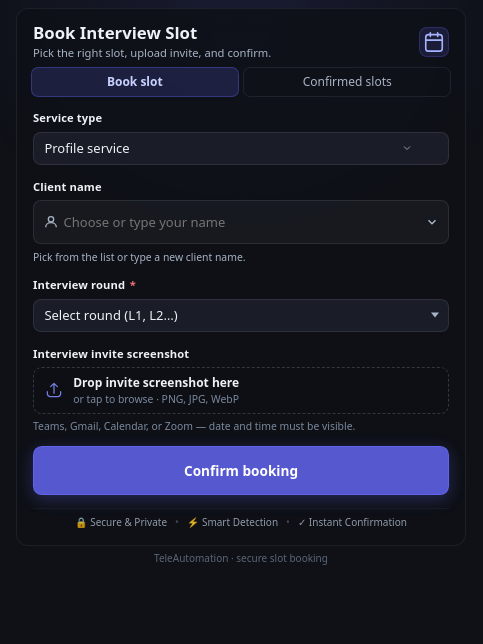
Round-wise payment — non-roster candidate gets payment card › waiver/no-payment path still works (re-service eligible)
The image size is (483, 644).
Click the button "Profile service": [87, 148] box [33, 132, 449, 165]
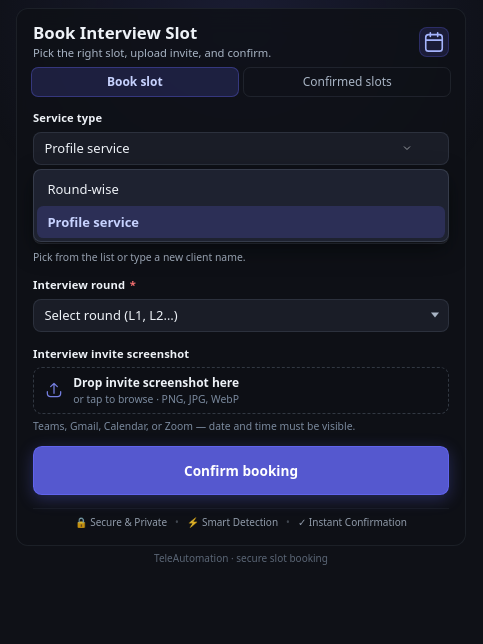
Click the list item "Round-wise": [83, 189] box [47, 180, 119, 198]
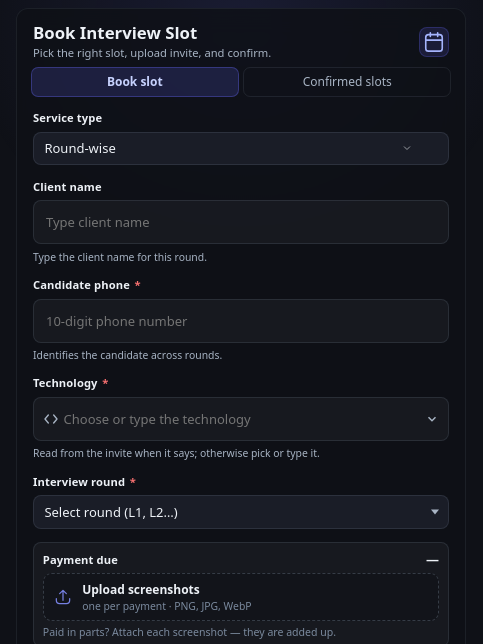
In the field with placeholder "Type client name": [241, 222] box [33, 200, 449, 244], type "Waived Candidate"
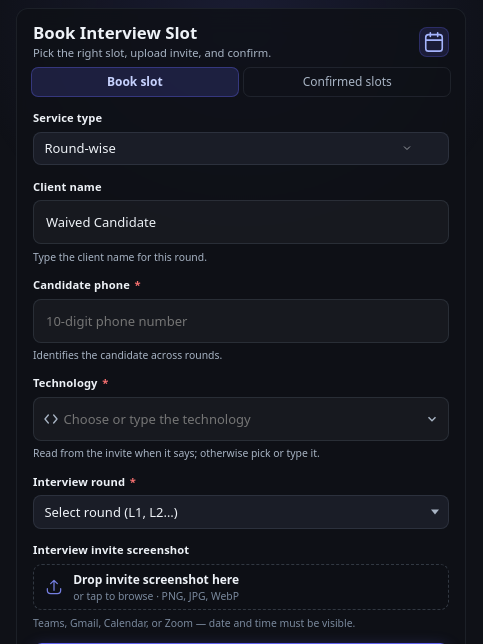
Result: the text "Payment due" is gone
